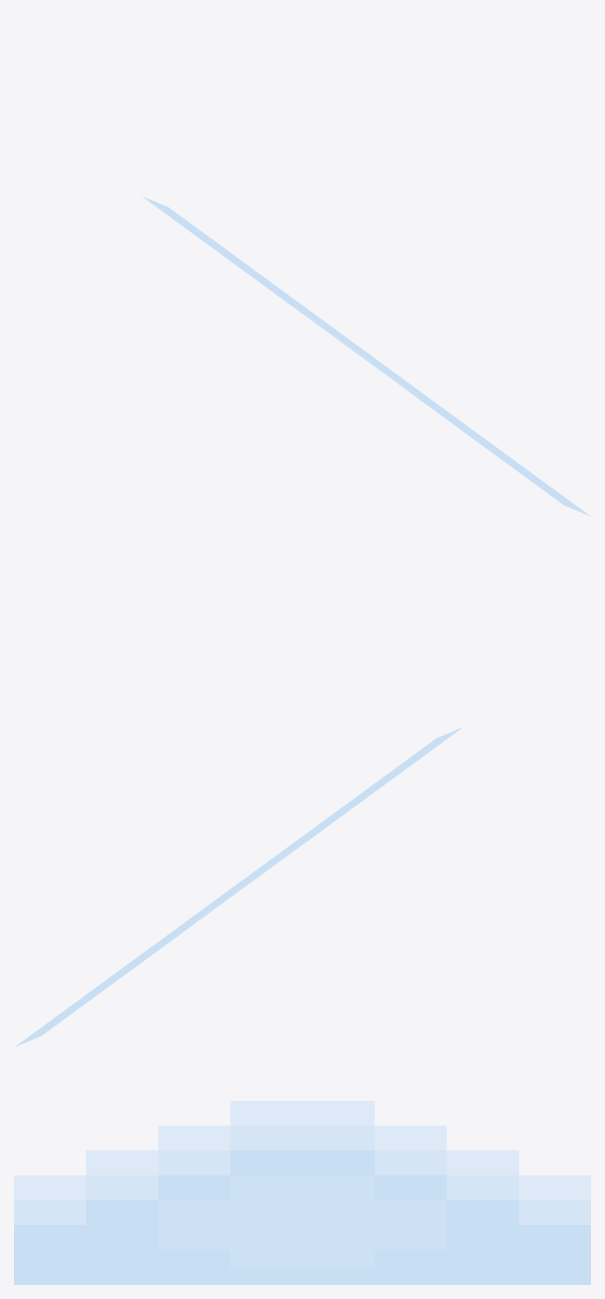
3 views of the same model, one above another, from view 1: azimuth 30°, elevation 25°; view 2: azimuth 150°, elevation 25°; view 3: azimuth 270°, elevation 25° (orthographic). The views are drawn at different scales.
Bounding box in the file's own units: 0.2109 × 0.3007 × 1.
Materials: 1 (1 with a texture image).
